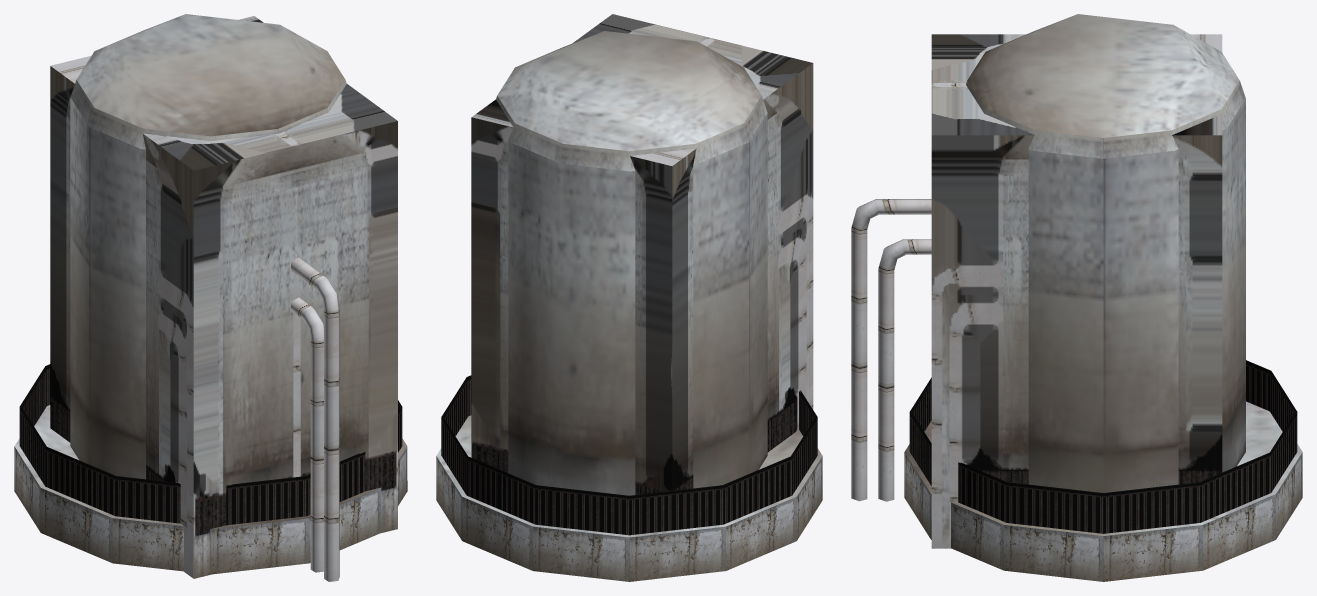
The model's file is dz_industrial_28.fbx.
3 renders of one model, left to right at view 1: azimuth 30°, elevation 25°; view 2: azimuth 150°, elevation 25°; view 3: azimuth 270°, elevation 25°, orthographic. The views are drawn at different scales.
Parts seen in each view (by area): view 1: dz_industrial_28_LOD0; view 2: dz_industrial_28_LOD0; view 3: dz_industrial_28_LOD0.
Part boxes in pixels (x1=…): dz_industrial_28_LOD0: x1=14, y1=14, x2=407, y2=581; dz_industrial_28_LOD0: x1=436, y1=14, x2=822, y2=581; dz_industrial_28_LOD0: x1=851, y1=14, x2=1302, y2=581.
Size of what is drawn, in the model's own units: 5.96 by 7.32 by 6.75.
